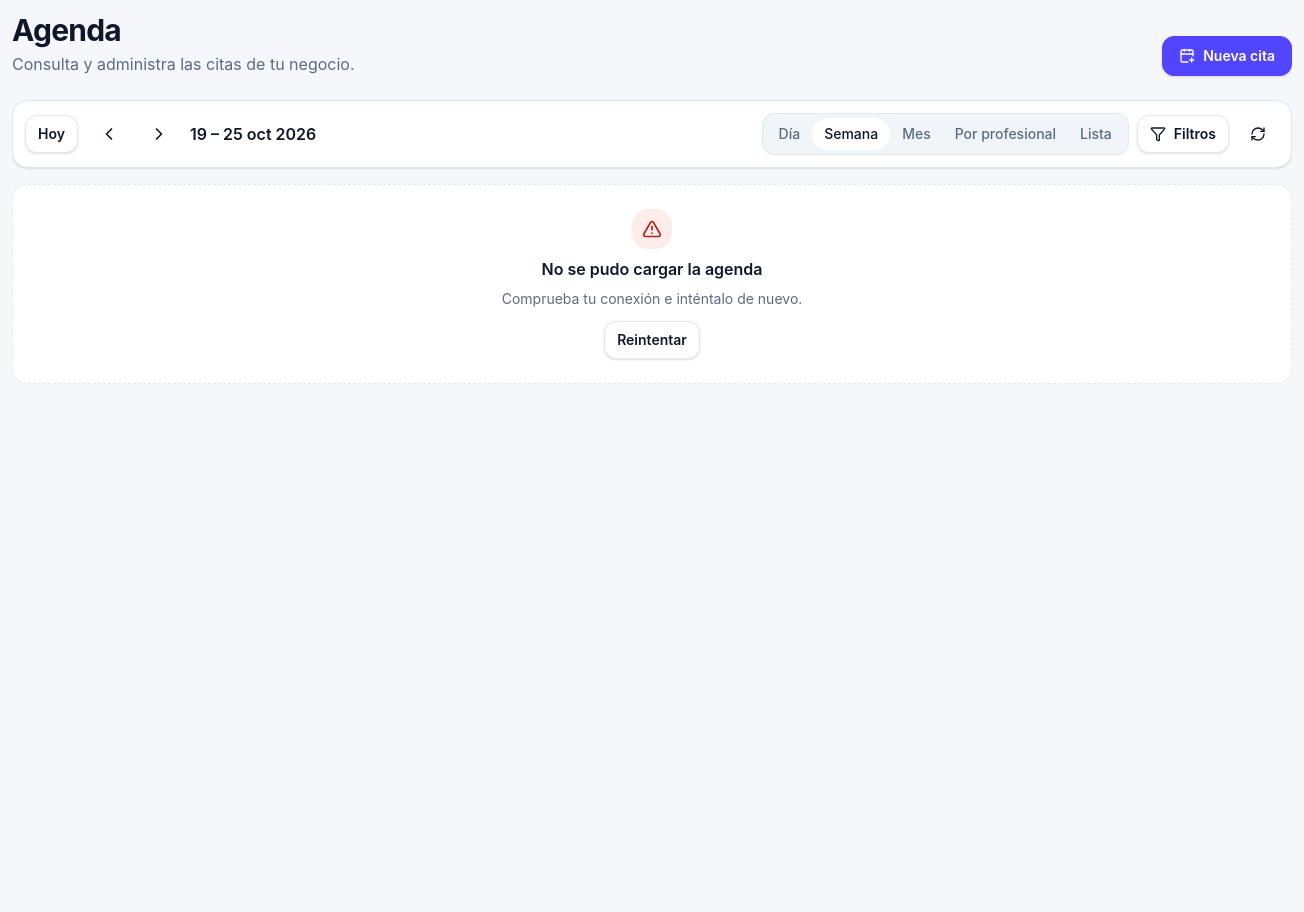
Test: CalendarPage (Agenda) › un error de red no se presenta como agenda vacía y permite reintentar
Expected: the text "No se pudo cargar la agenda" is shown, [542,257,762,281]
Click the button "Reintentar". click: click(652, 340)
box: [604,321,700,359]
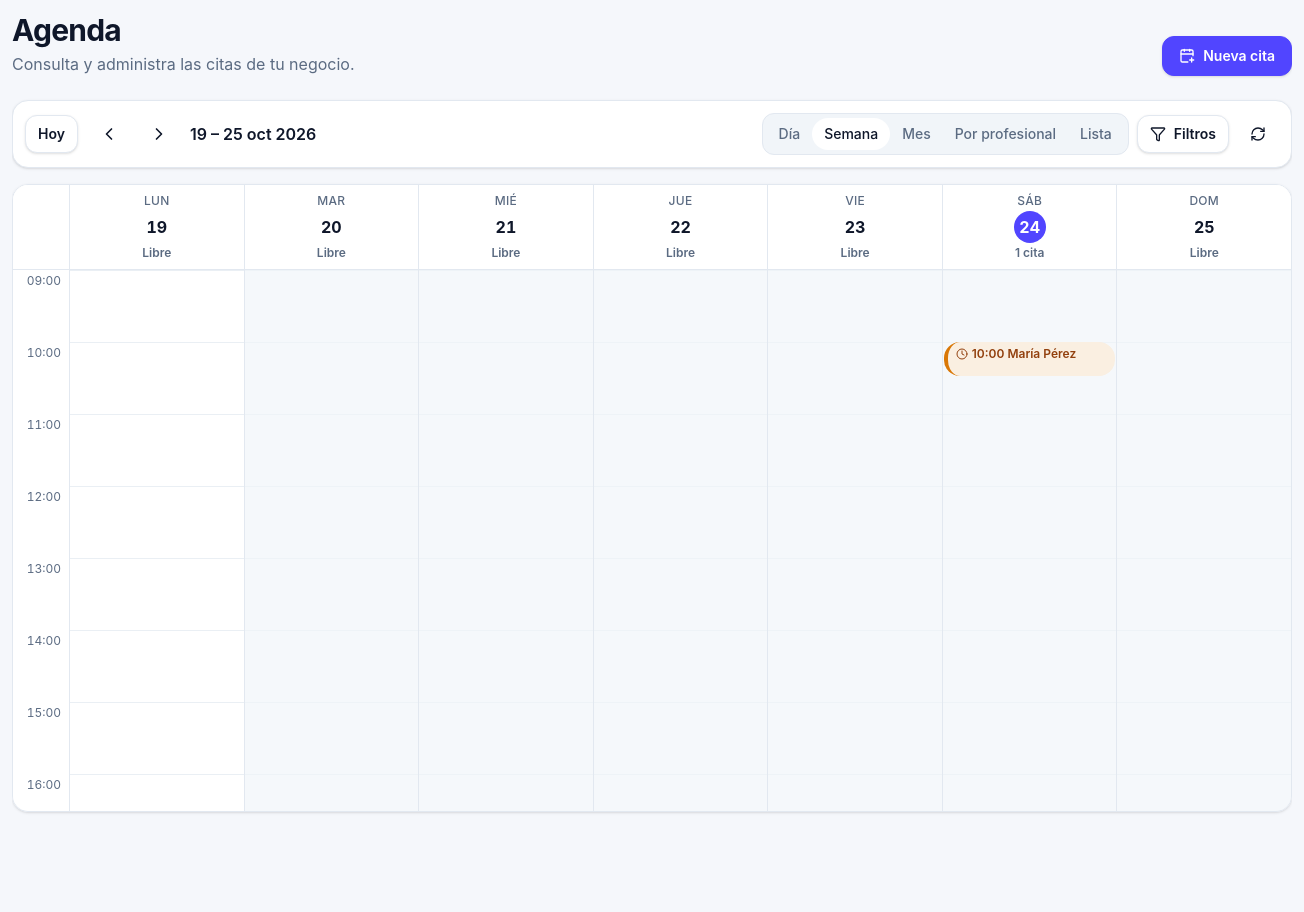
Expected: the button "10:00 María Pérez" is shown, [944,342,1115,376]
